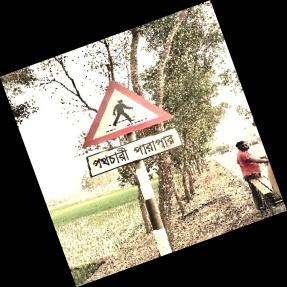Pedestrian-crossing: (81, 80, 181, 178)
